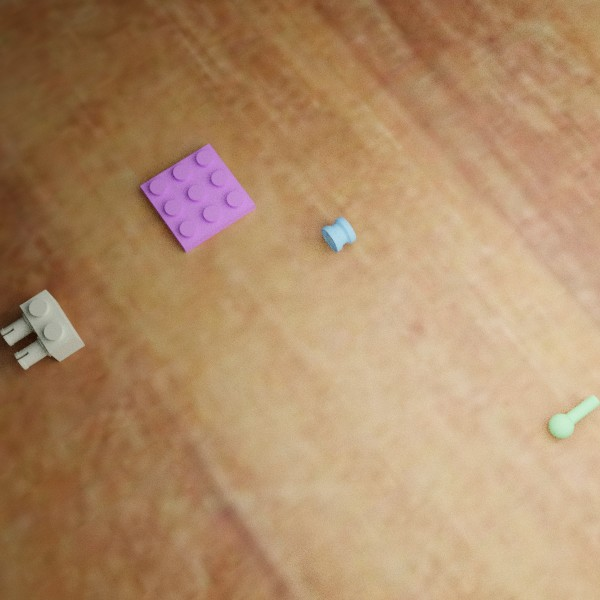lego: (140, 143, 255, 252), (0, 289, 84, 369), (548, 395, 600, 438), (321, 216, 356, 252)
